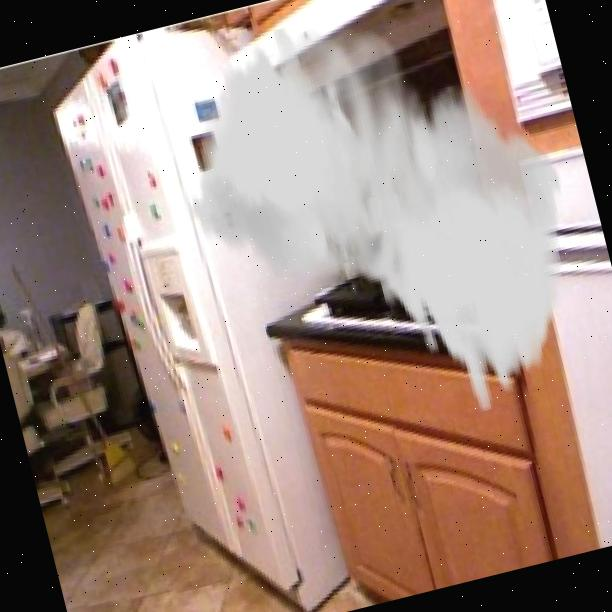smoke: (150, 0, 611, 468)
